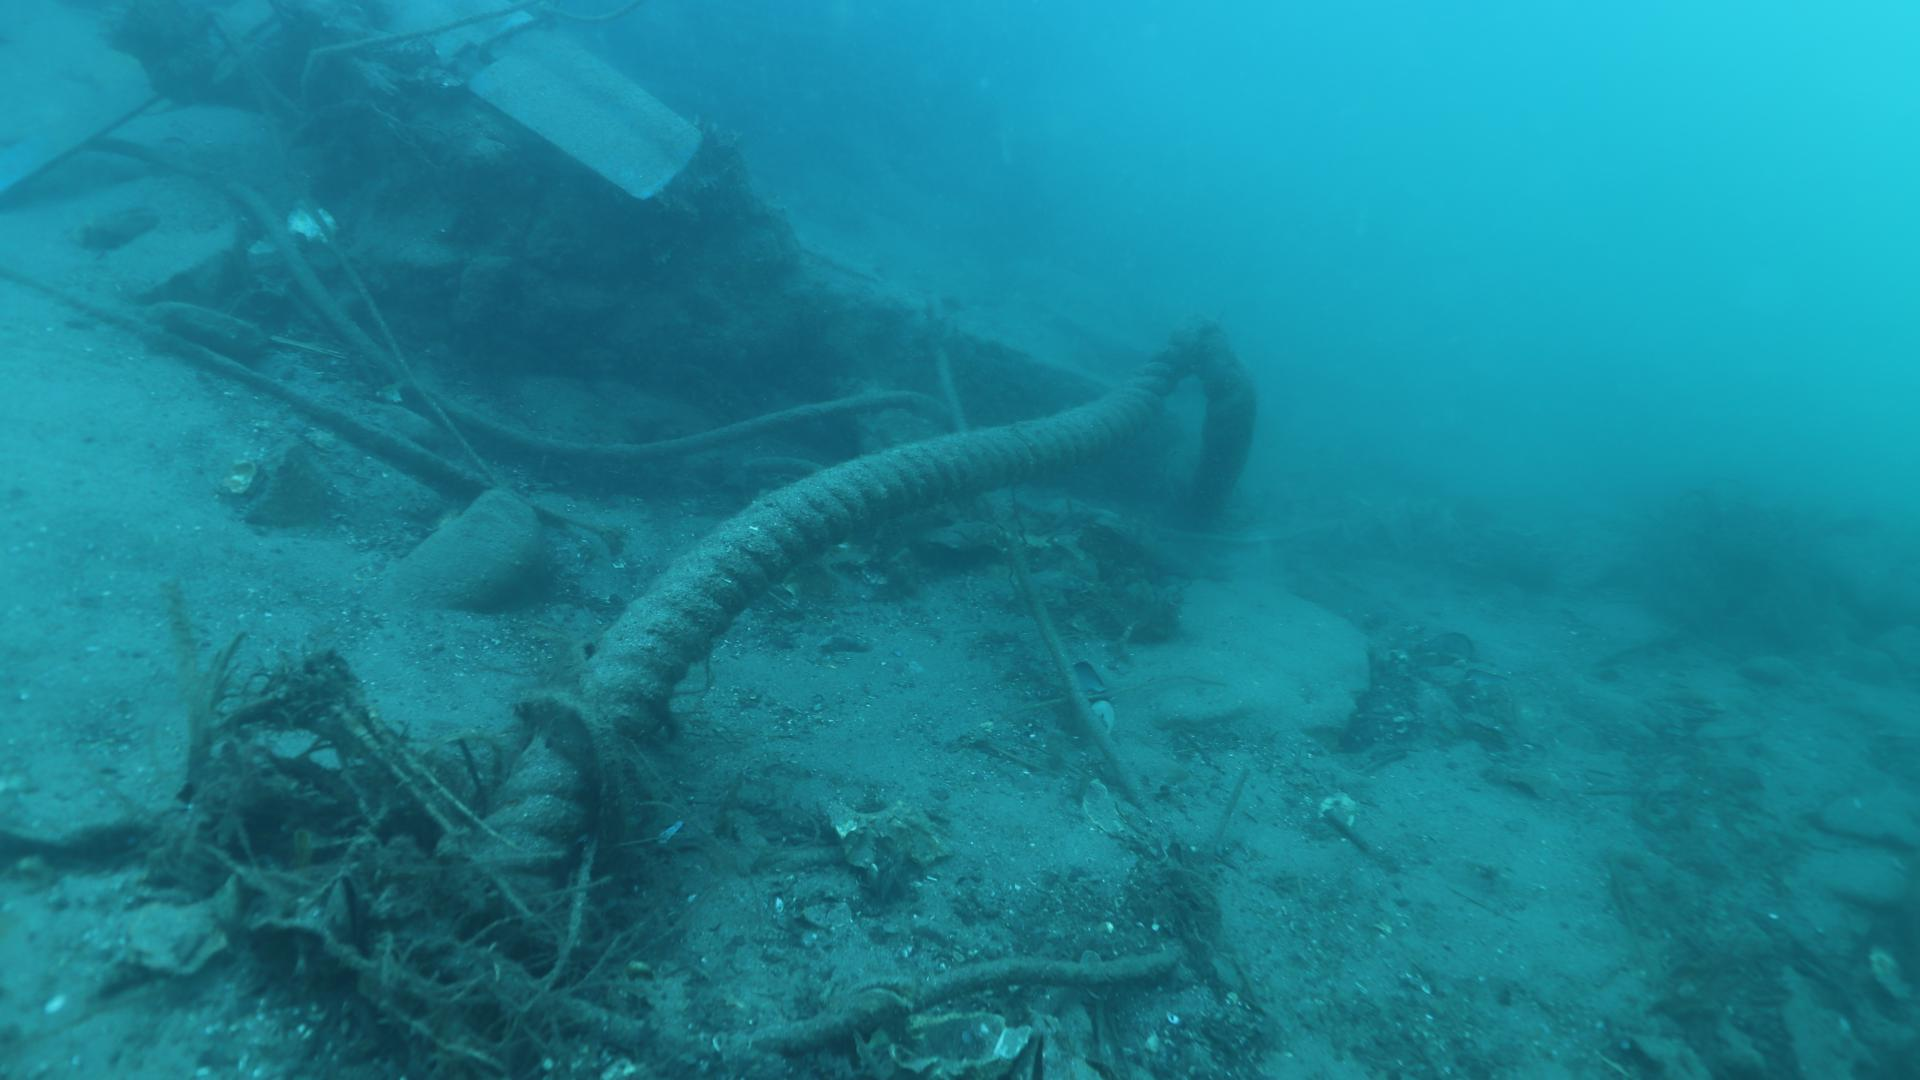rope: (472, 313, 1255, 895)
